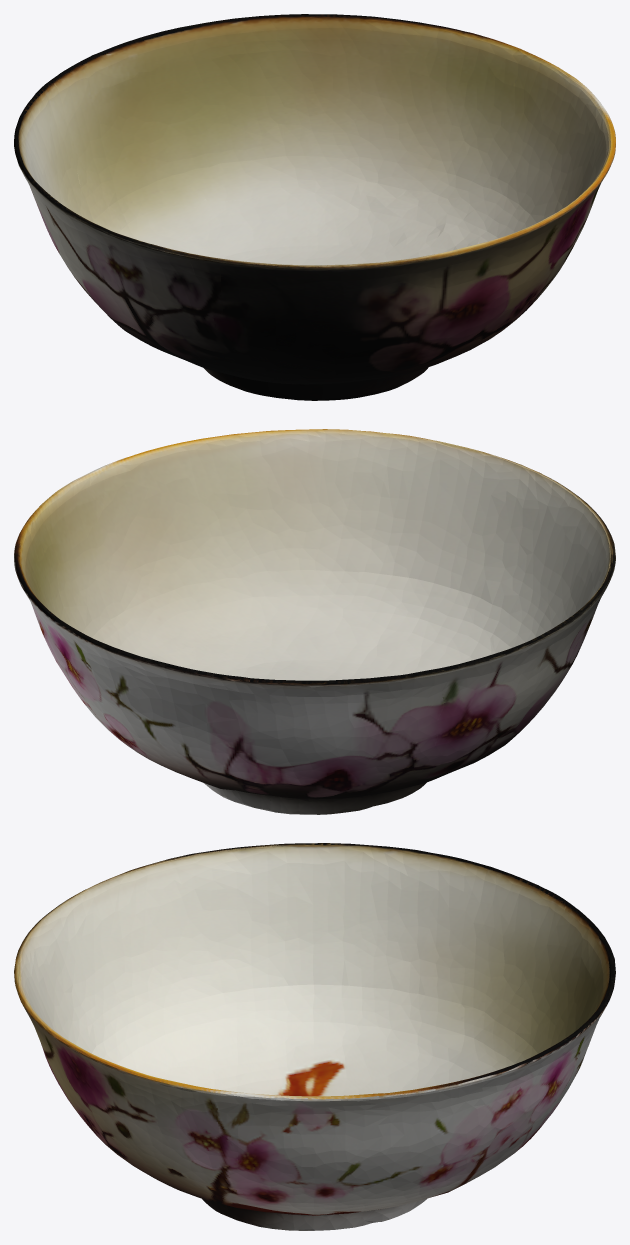
The model's file is porcelain-antique-bowl-japanese.jpeg.glb.
The picture shows the model from 3 angles, top to bottom: view 1: azimuth 30°, elevation 25°; view 2: azimuth 150°, elevation 25°; view 3: azimuth 270°, elevation 25°; orthographic projection.
Visible parts, largest first — view 1: world; view 2: world; view 3: world.
Part boxes in pixels (bbox=[...]): world: bbox=[14, 14, 615, 400]; world: bbox=[14, 429, 615, 814]; world: bbox=[14, 843, 615, 1230].
Bounding box in the file's own units: 0.9986 × 0.3897 × 0.9982.
Materials: 1 (1 with a texture image).
